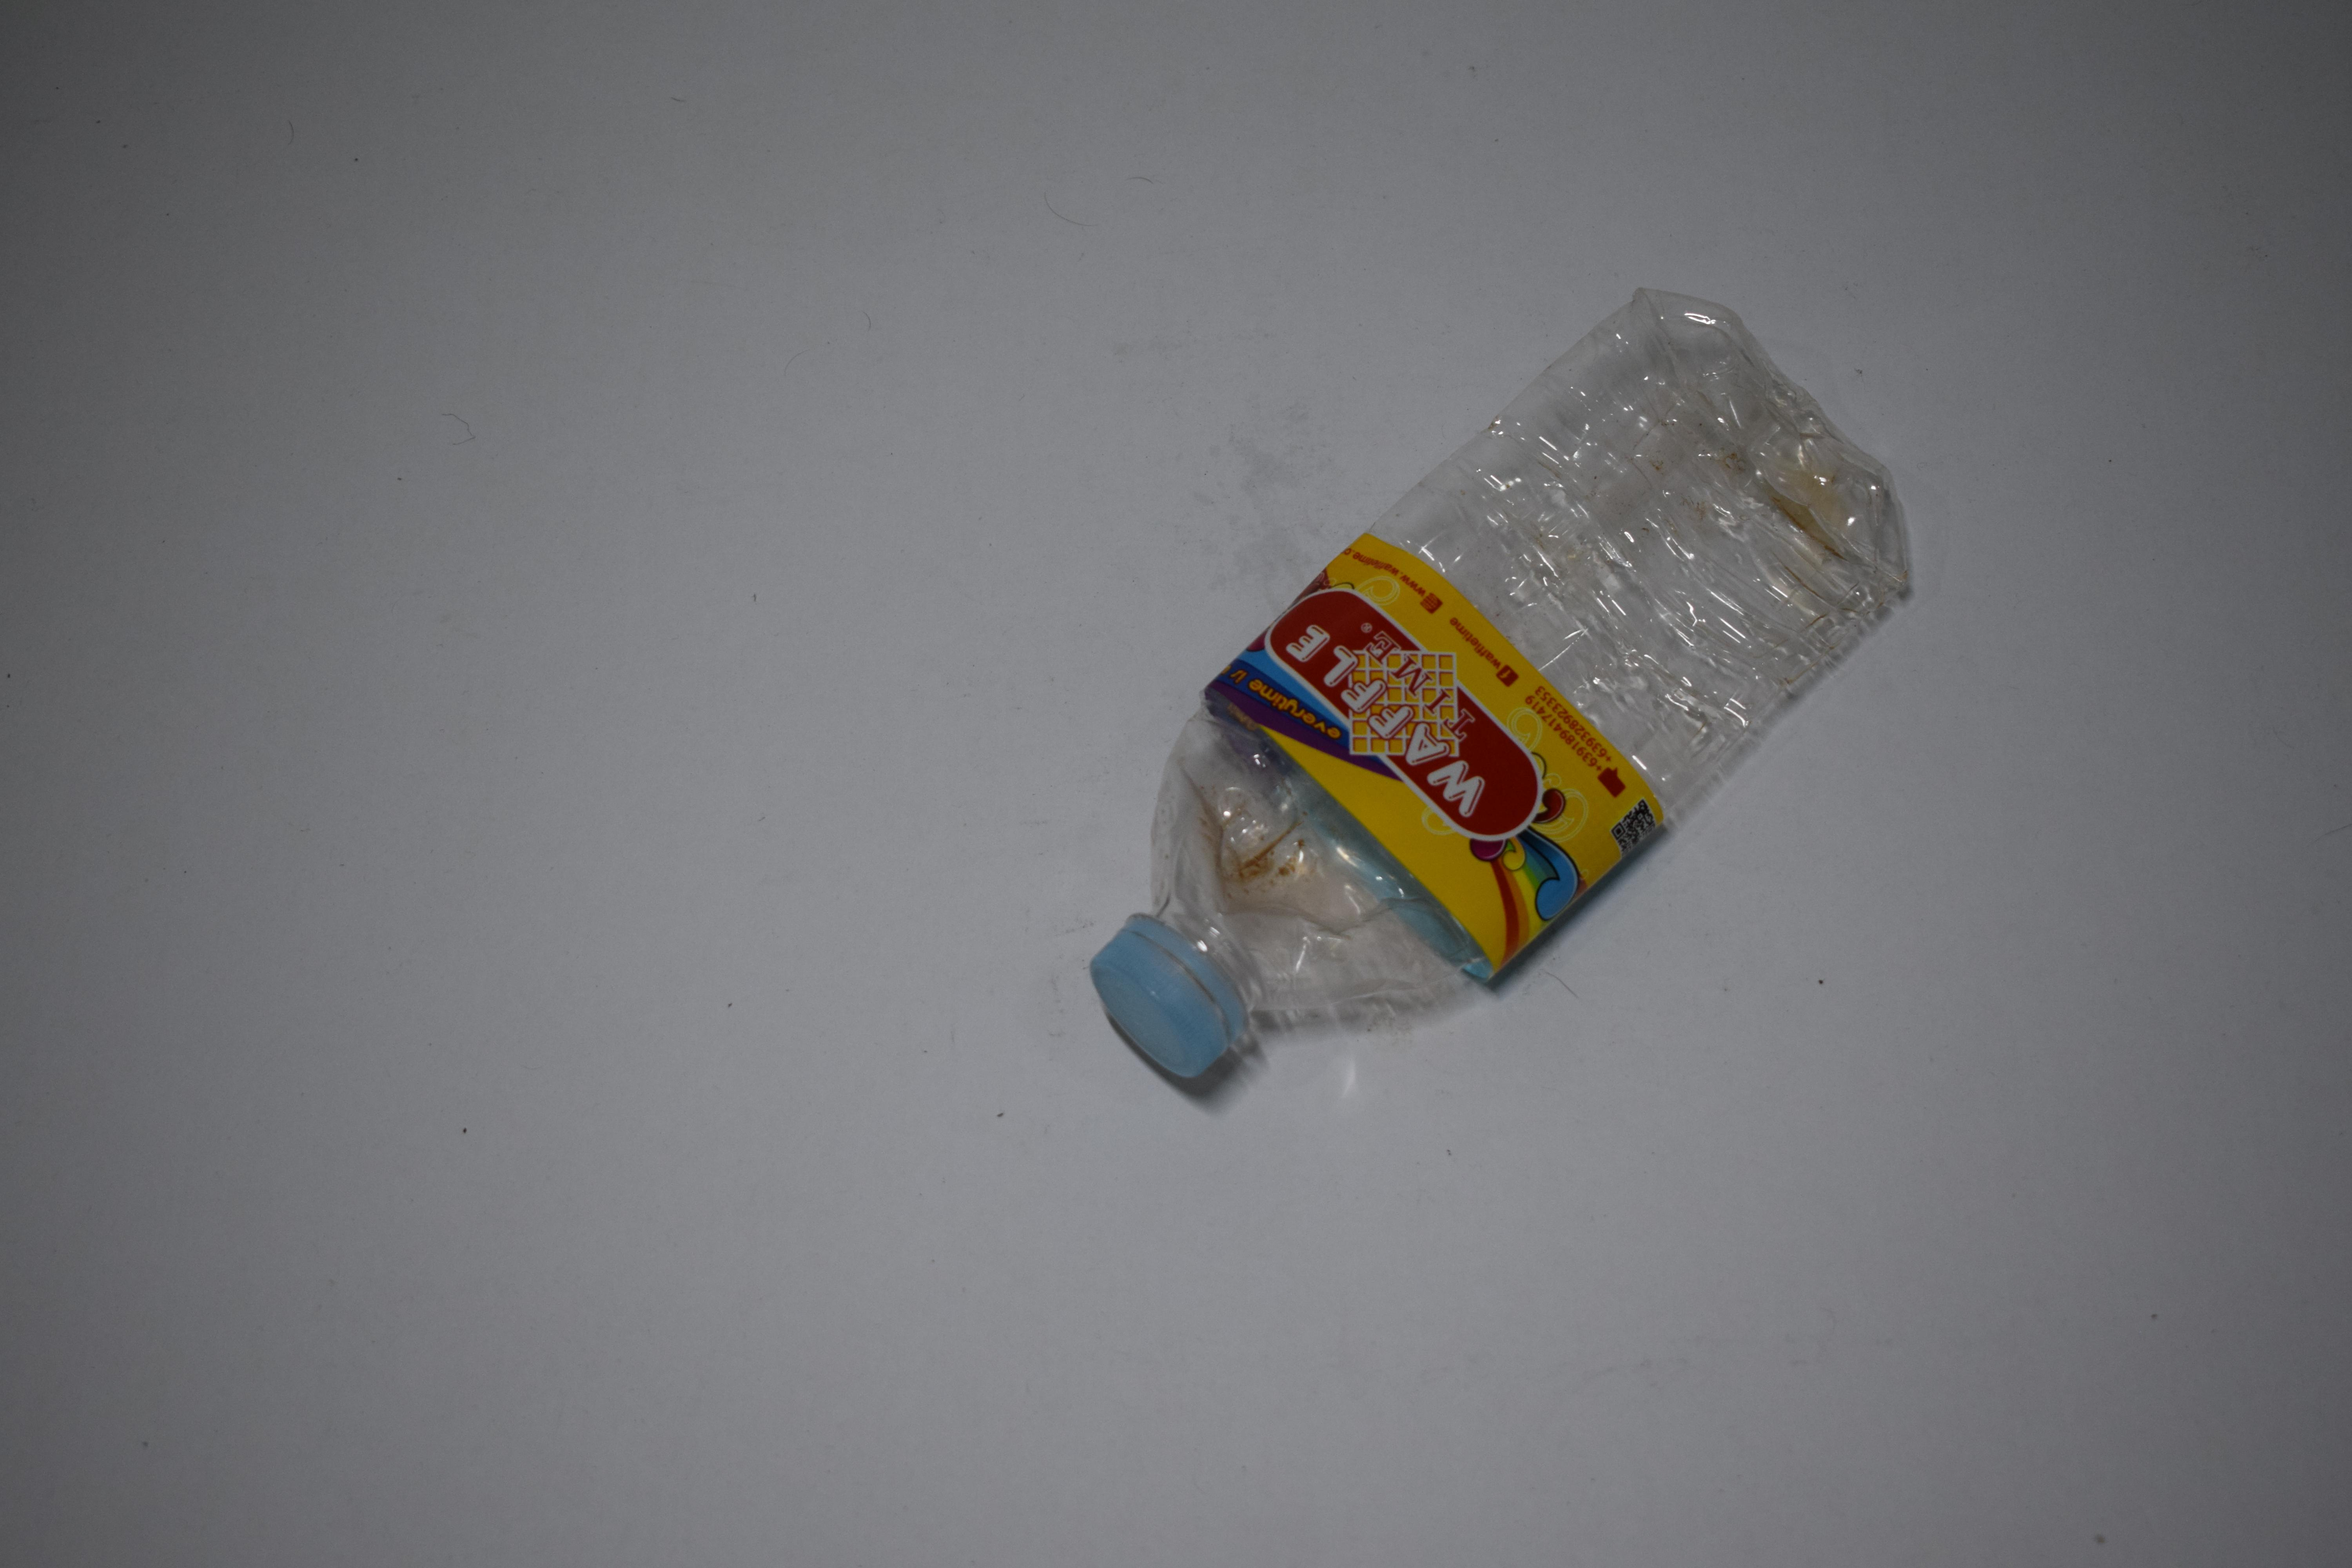bottle: (1130, 658, 1836, 709)
